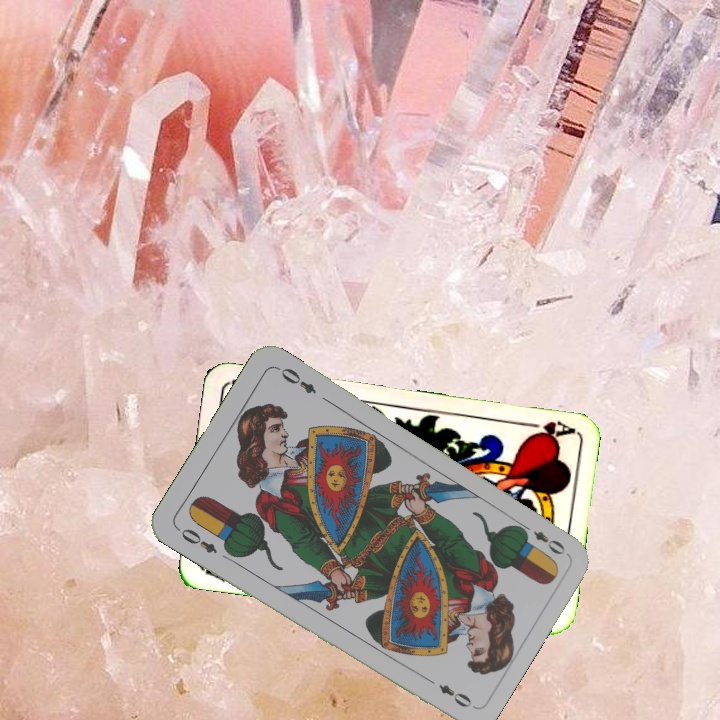EO: (515, 519, 568, 558), (172, 523, 220, 556)
HA: (516, 416, 575, 442)
